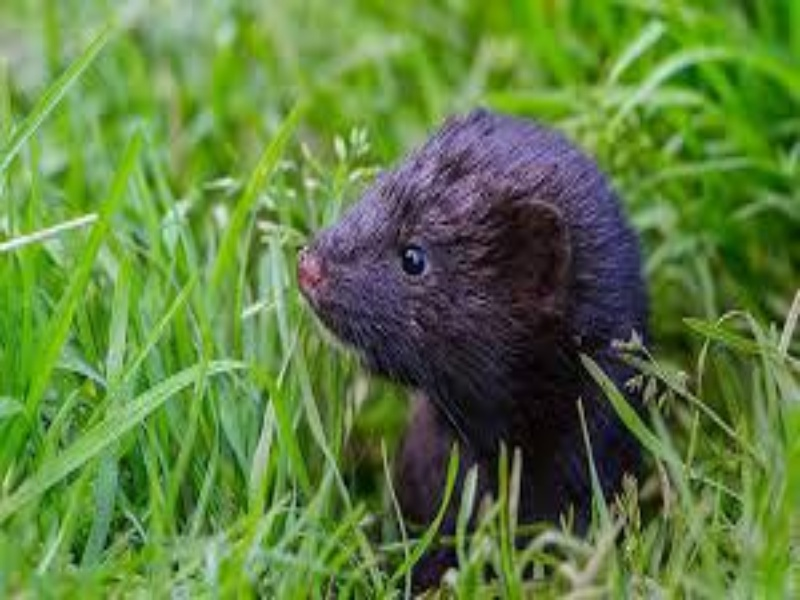minkish: (289, 103, 686, 584)
